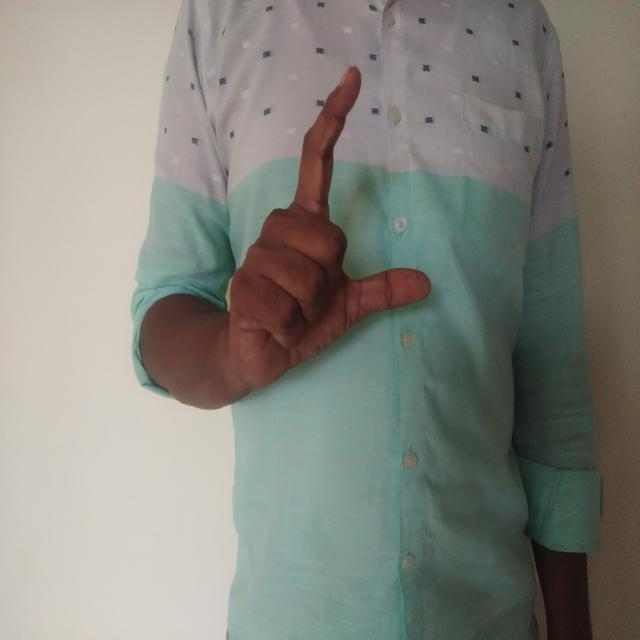L: (214, 52, 448, 394)
